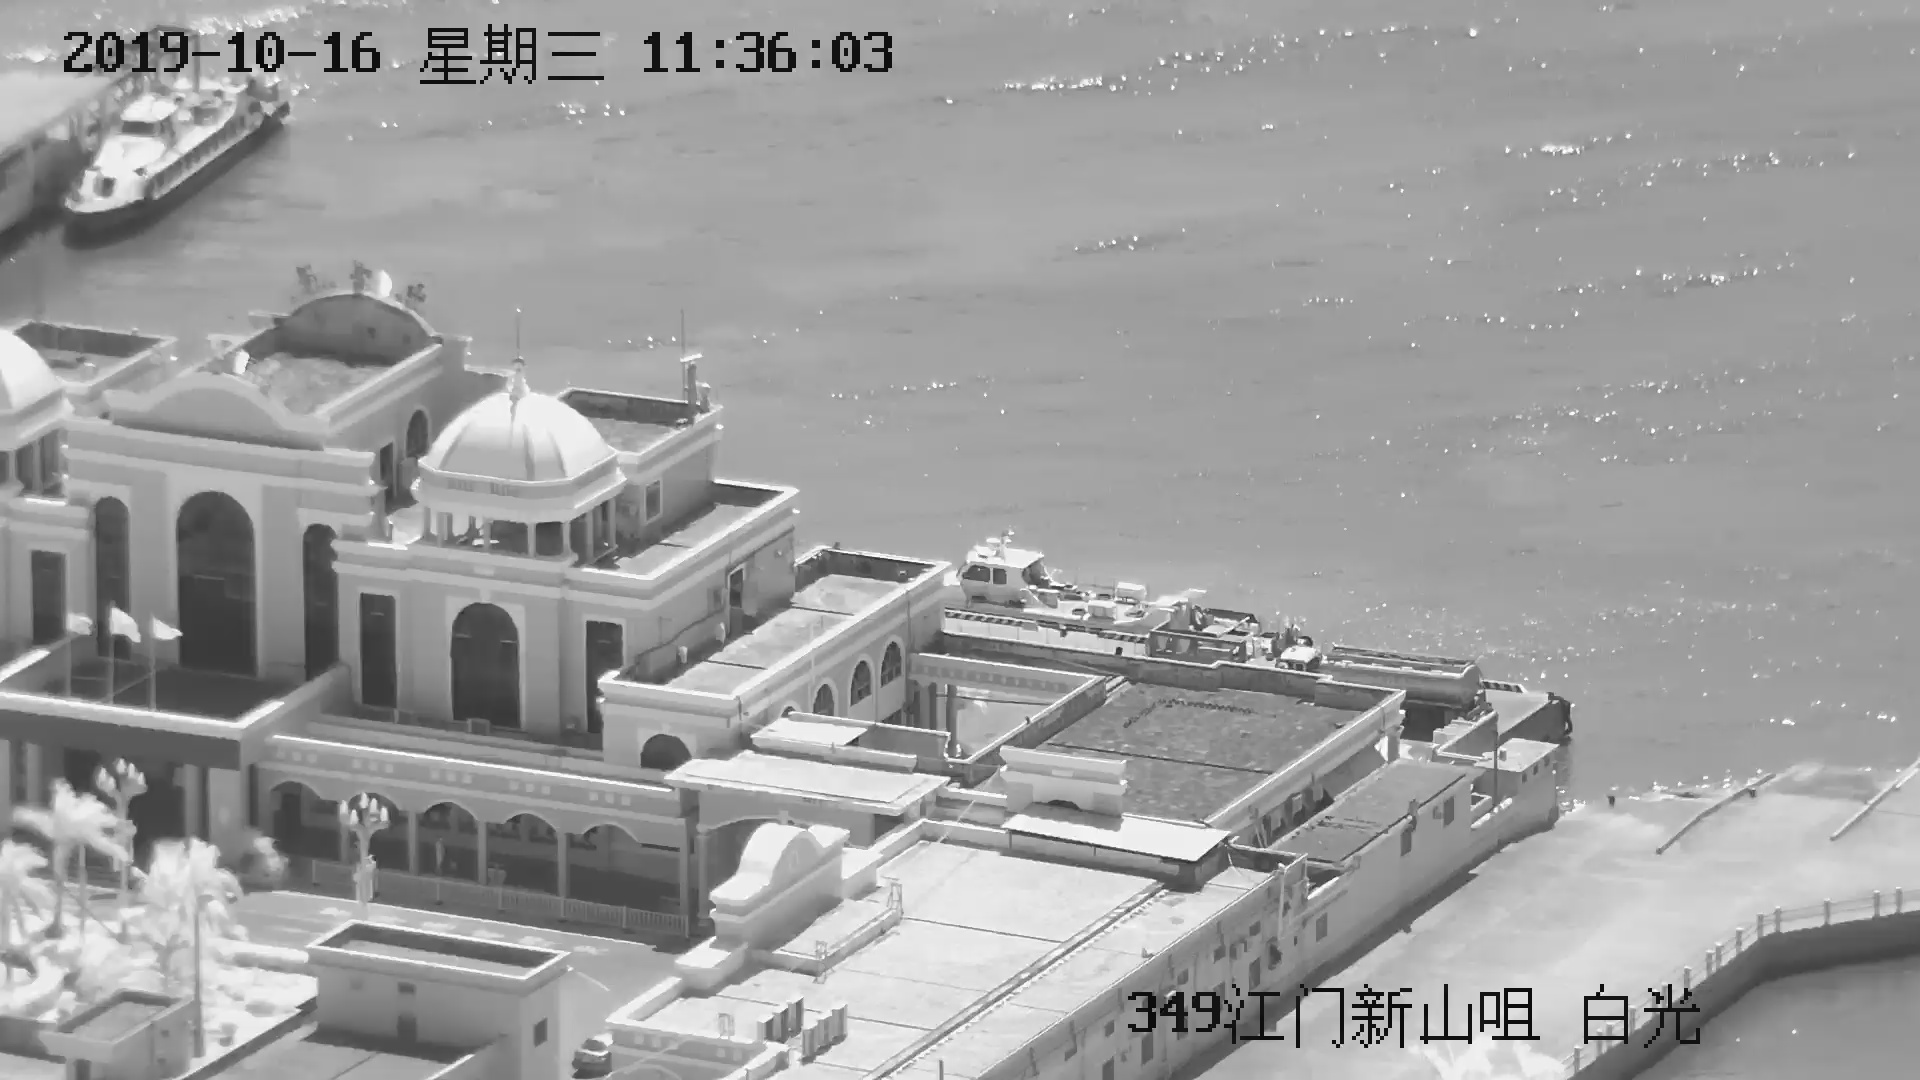ship: (51, 73, 287, 222)
